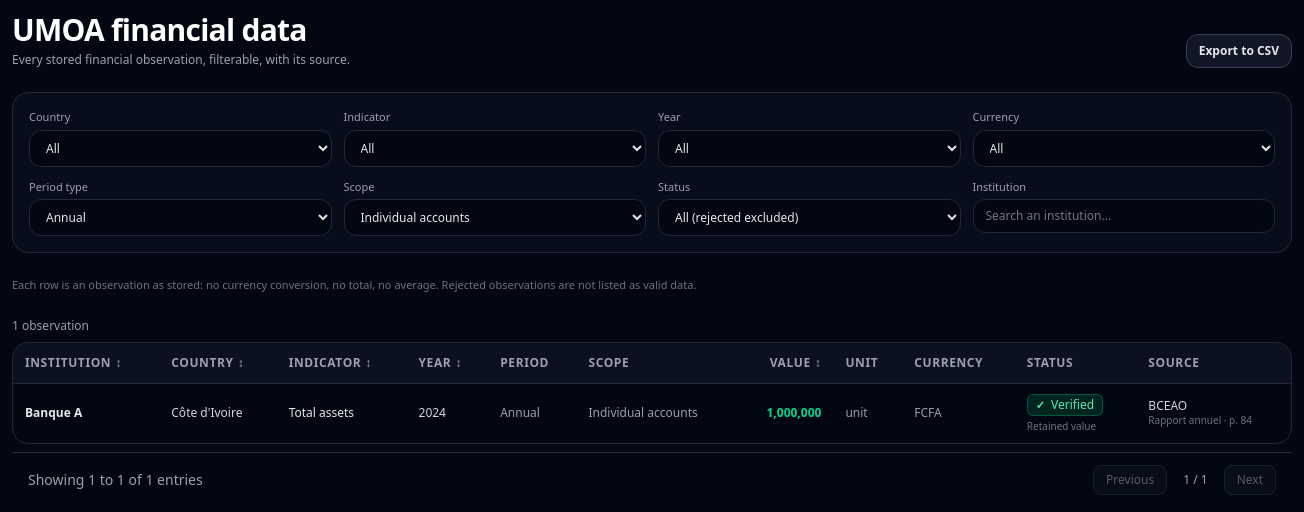
export › refused by the backend → 'refine your filters' (EN)
expect the table with test id "explorer-table" is shown: met, box [13,342,1291,443]
Step 1. Click the button with test id "export-csv" → (1239, 51), box [1186,34,1292,68]
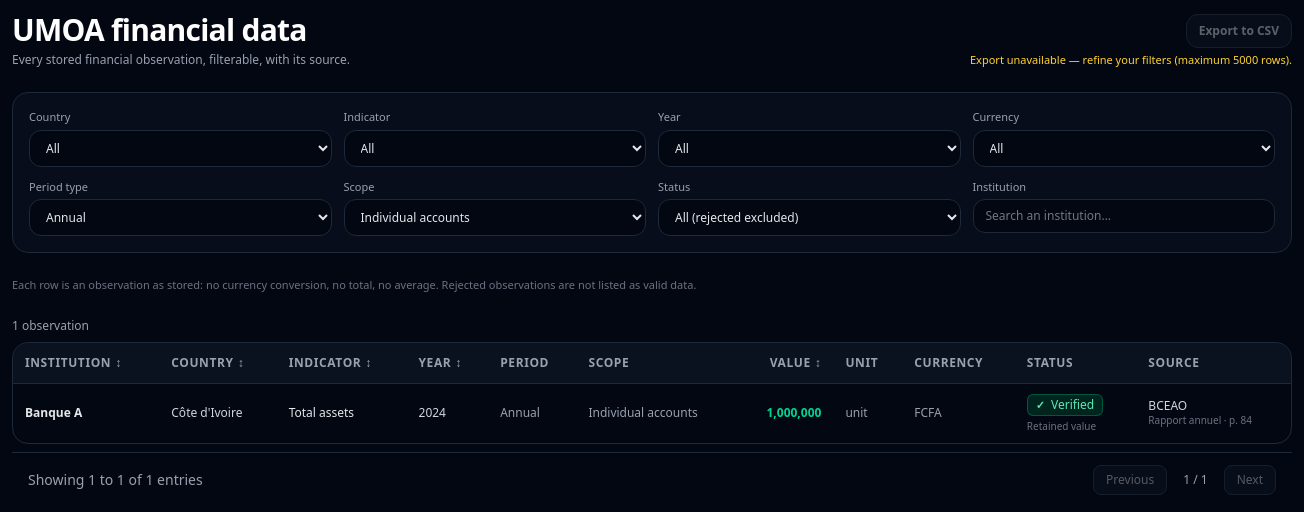
expect the text with test id "export-too-large" shows "Export unavailable — refine your filters": met, box [970,52,1292,66]
